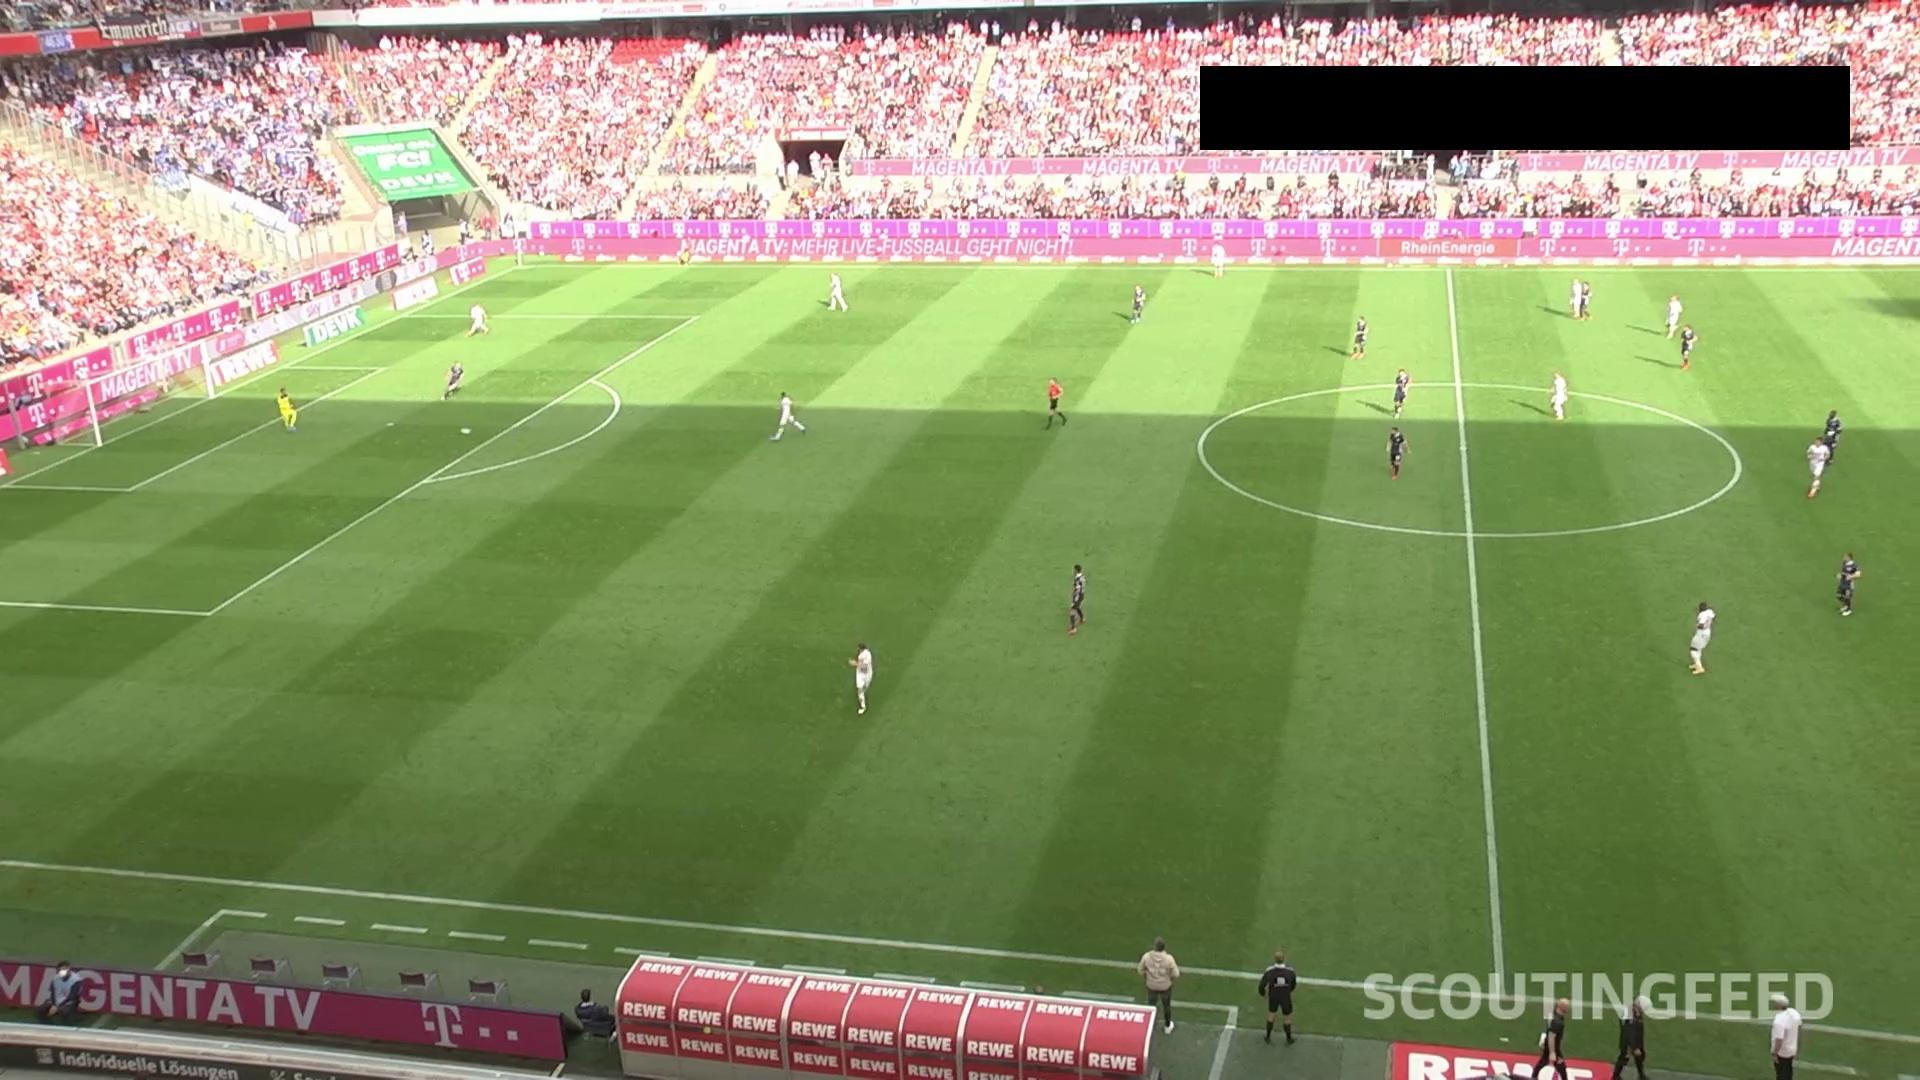Location-of-ball: (459, 422, 484, 440)
